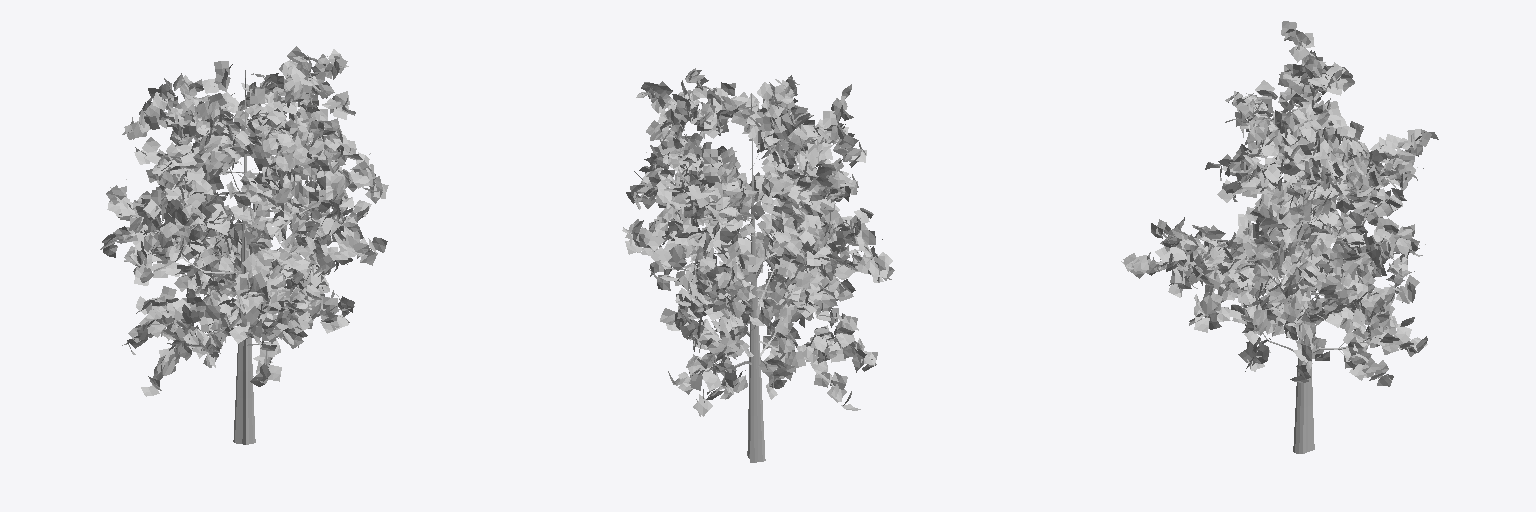
Rendered from BirchTree1.obj.
The picture shows the model from 3 angles: view 1: azimuth 30°, elevation 25°; view 2: azimuth 150°, elevation 25°; view 3: azimuth 270°, elevation 25°; orthographic projection.
Visible parts, largest first — view 1: trunk; view 2: trunk; view 3: trunk.
Boxes of the visible parts, <box> form: trunk: <box>100,46,388,444</box>; trunk: <box>622,68,894,462</box>; trunk: <box>1121,21,1438,453</box>.
Bounding box in the file's own units: 10.73 × 14.44 × 10.74.